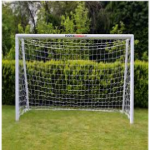goals: (12, 30, 138, 127)
